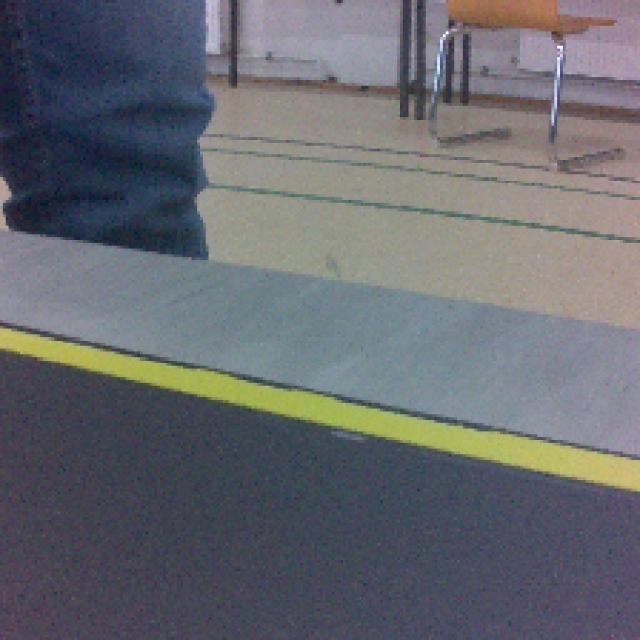Pedestrian crosswalk: (0, 320, 640, 486)
